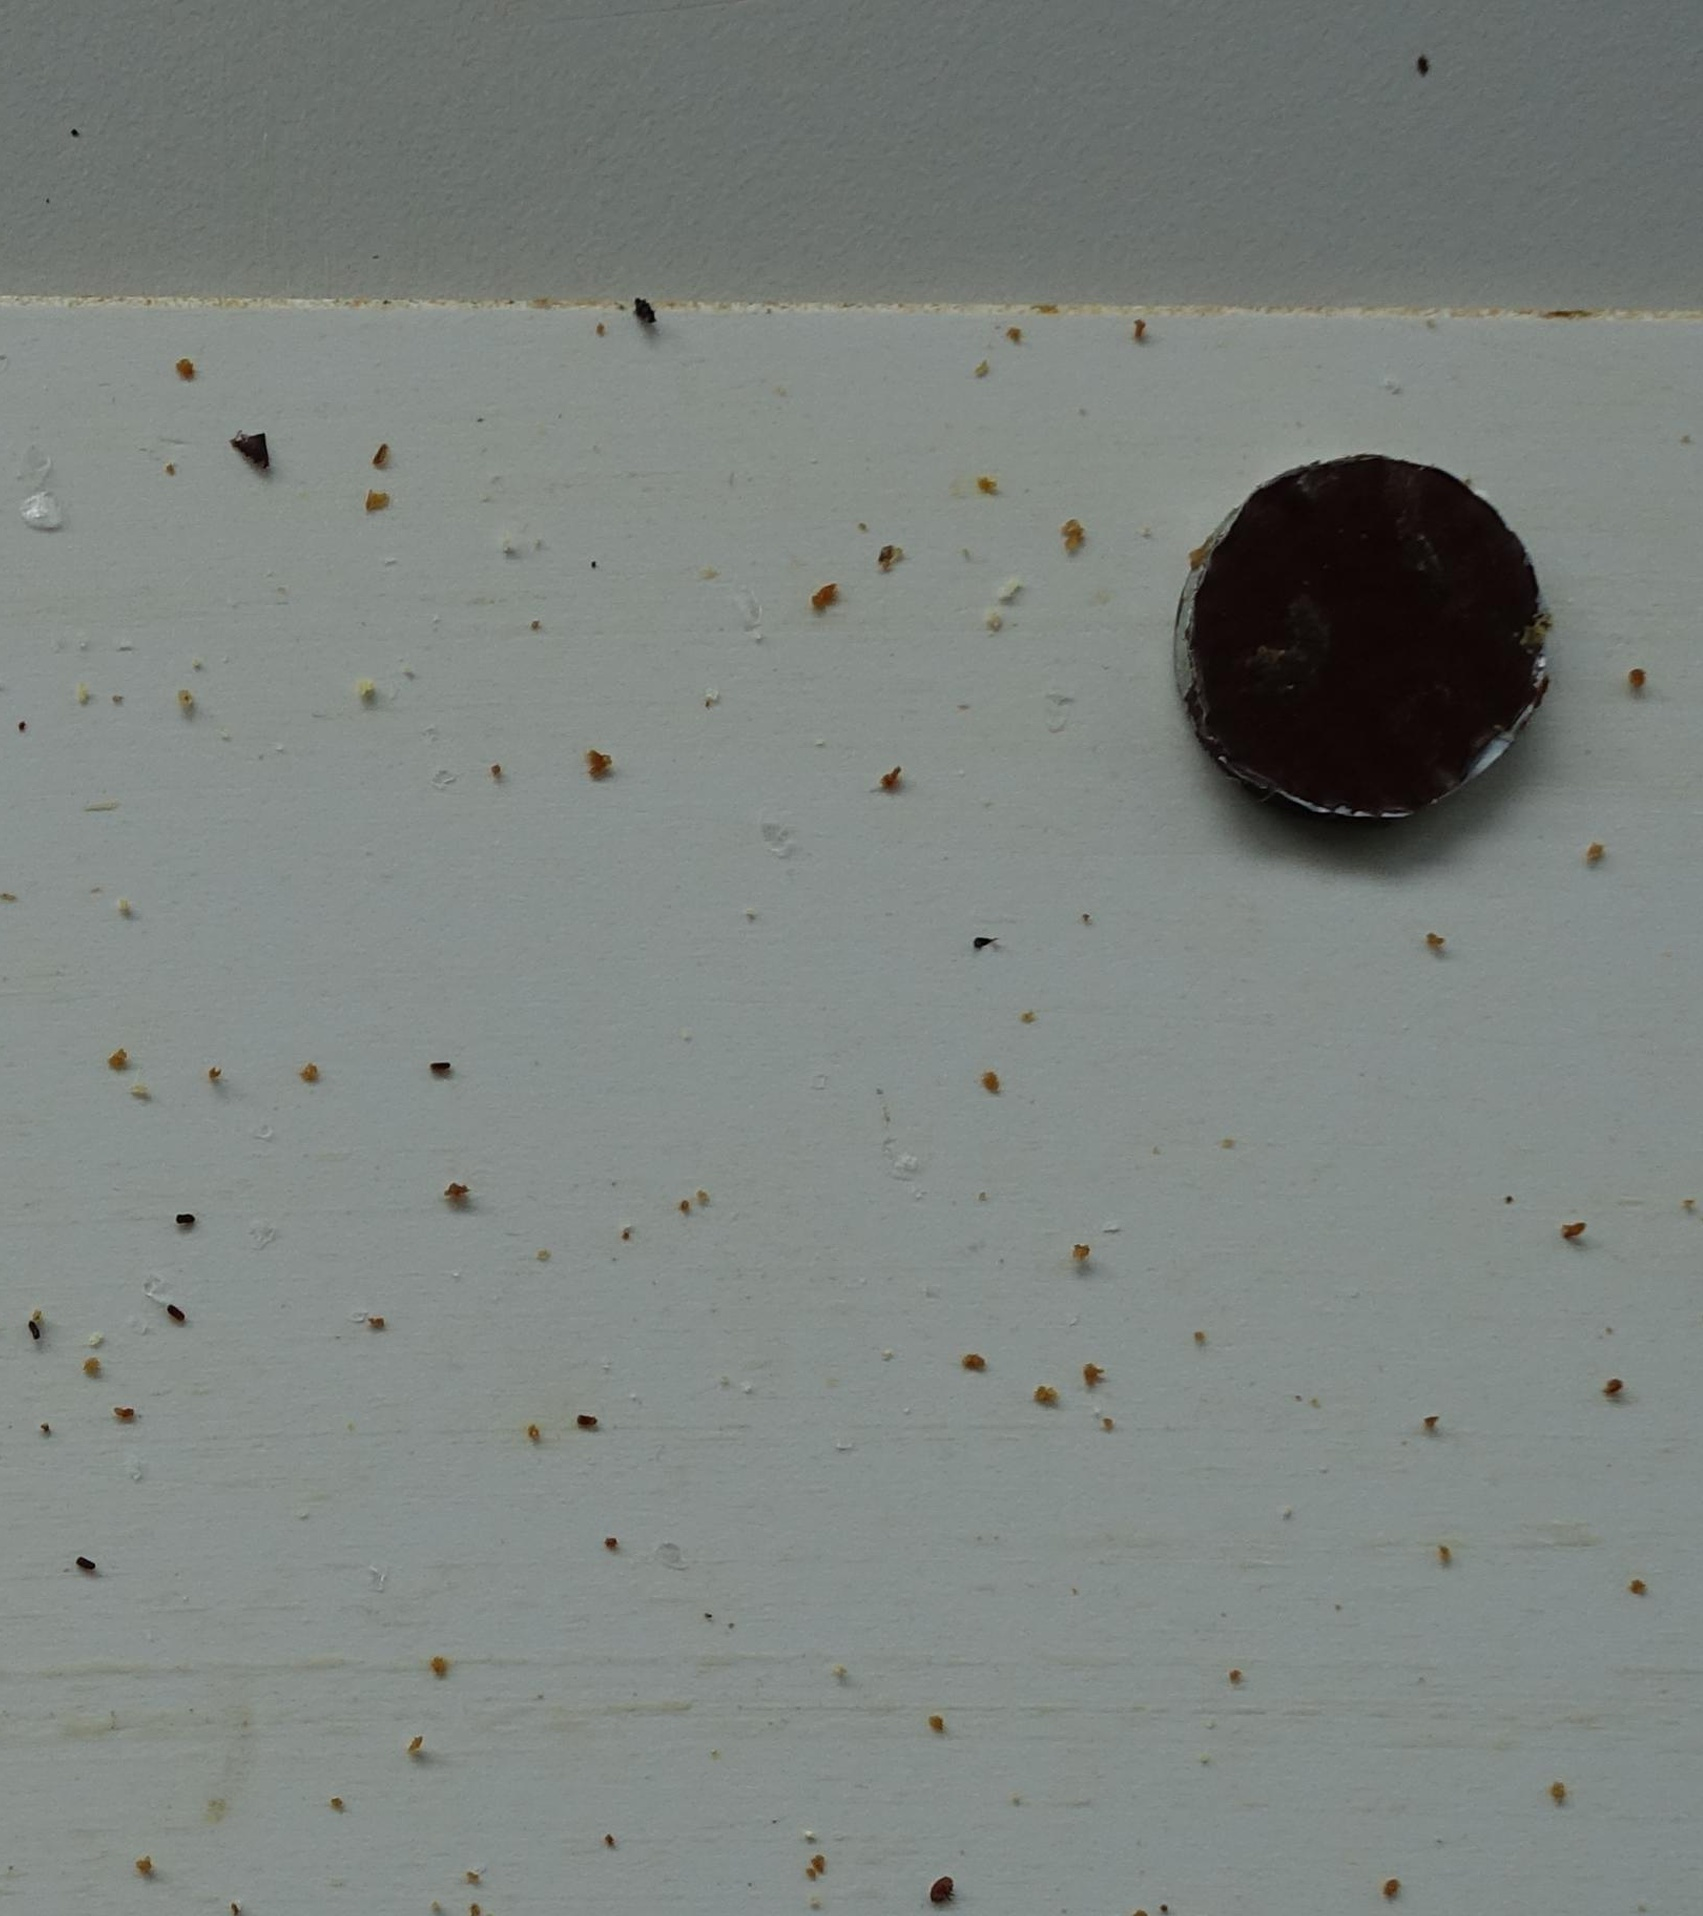Varroa: (929, 1877, 953, 1903)
